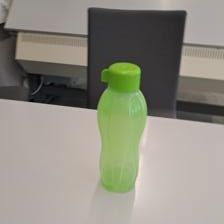bottle: (93, 61, 147, 194)
